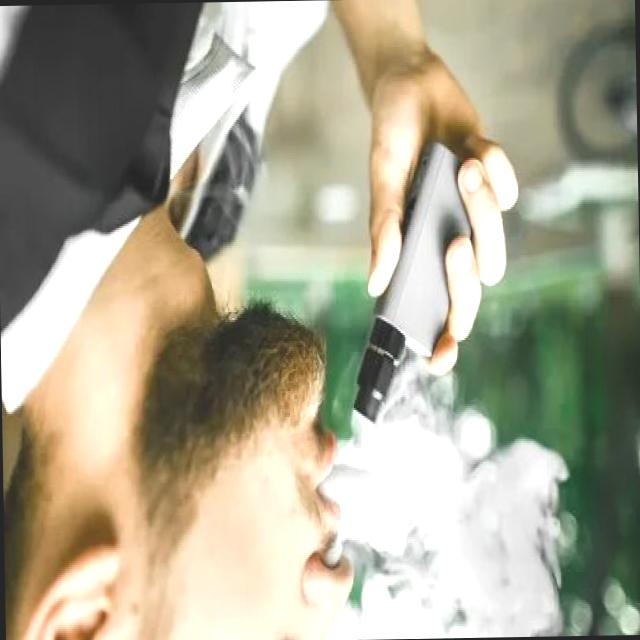smoke: (340, 132, 488, 430)
